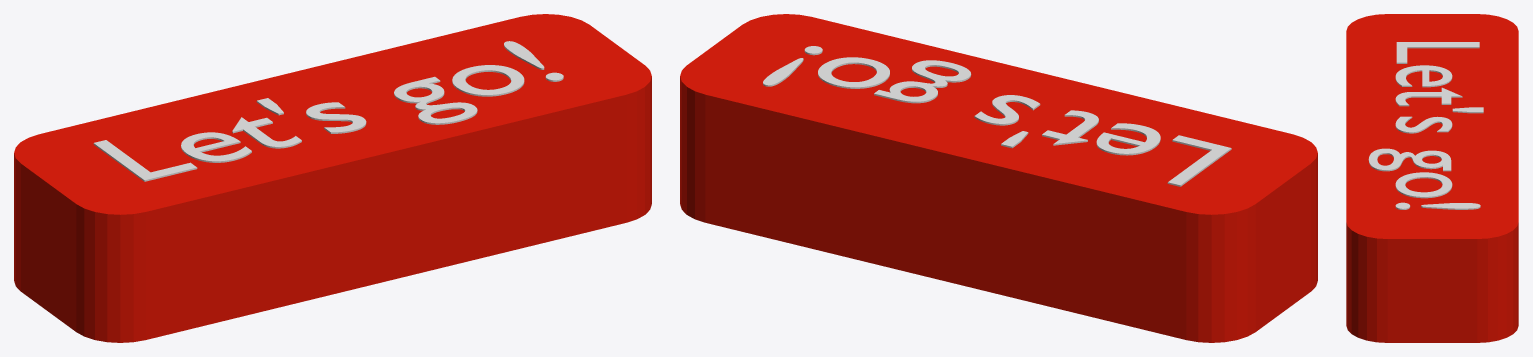
The model's file is letsgo.fbx.
3 renders of one model, left to right at view 1: azimuth 30°, elevation 25°; view 2: azimuth 150°, elevation 25°; view 3: azimuth 270°, elevation 25°, orthographic. The views are drawn at different scales.
Parts seen in each view (by area): view 1: Cube.021; view 2: Cube.021; view 3: Cube.021.
Boxes of the visible parts, x1,y1,x2,y2 form: Cube.021: (14,14,651,342); Cube.021: (680,14,1317,342); Cube.021: (1346,14,1518,342).
Size of the model in its own units: 137 by 29.95 by 44.47.
